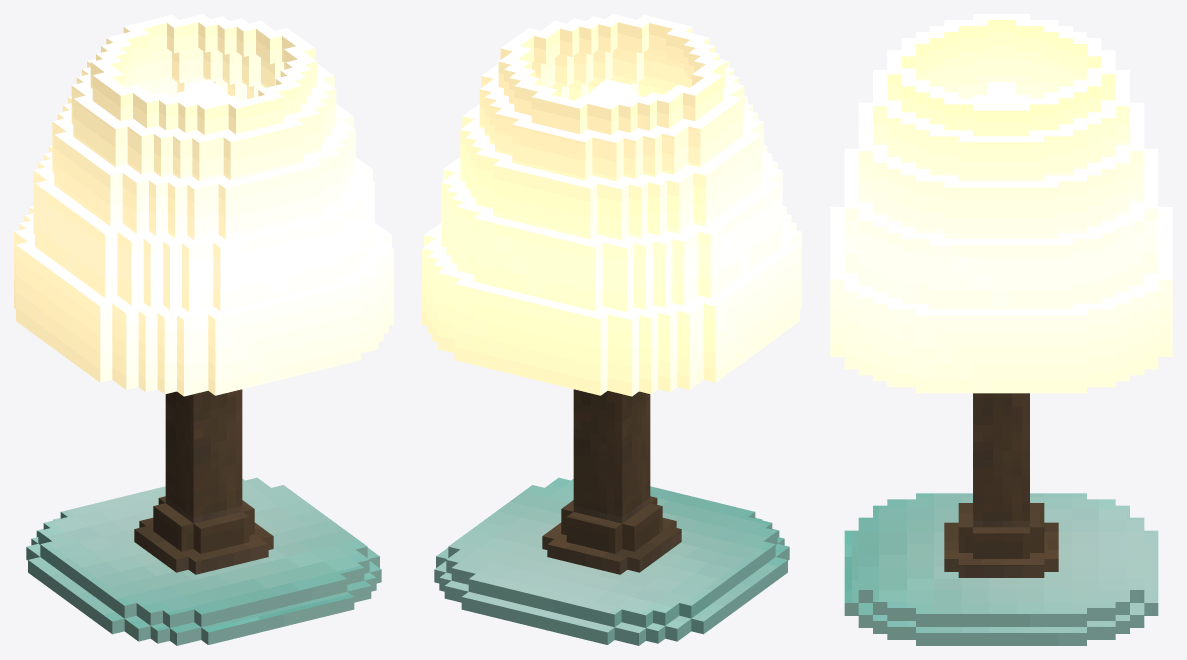
Rendered from Desk Lamp Of Suffering.fbx.
3 renders of one model, left to right at view 1: azimuth 30°, elevation 25°; view 2: azimuth 150°, elevation 25°; view 3: azimuth 270°, elevation 25°, orthographic.
Parts seen in each view (by area): view 1: Lamp; view 2: Lamp; view 3: Lamp.
Boxes of the visible parts, x1,y1,x2,y2 form: Lamp: [14, 14, 393, 645]; Lamp: [422, 14, 801, 645]; Lamp: [830, 14, 1172, 645].
Bounding box in the file's own units: 34.3 × 57.17 × 34.3.
Materials: 1 (1 with a texture image).
